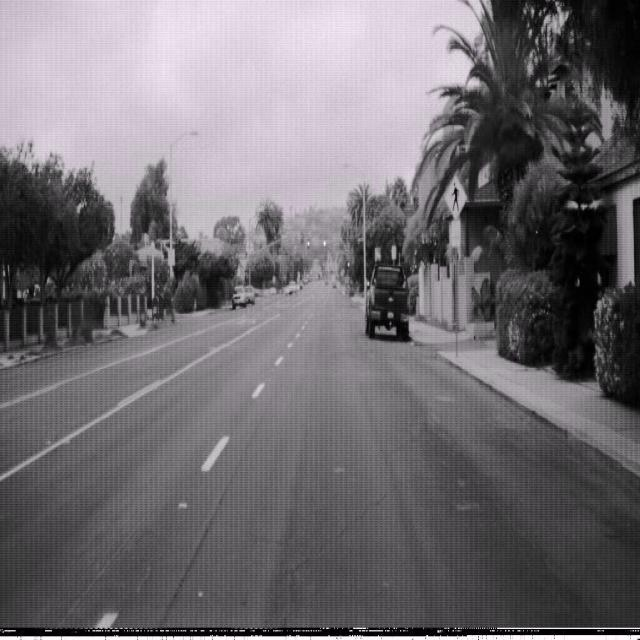pedestrianCrossing: (442, 170, 468, 220)
